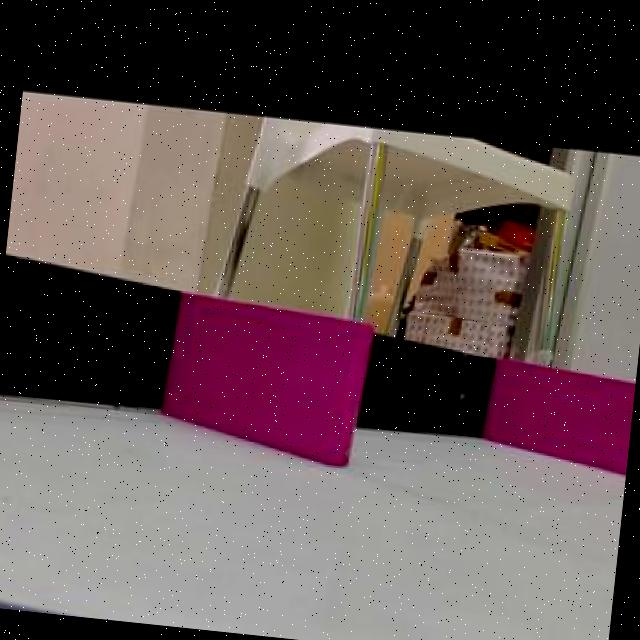xparking: (164, 304, 363, 455), (488, 371, 634, 468)
